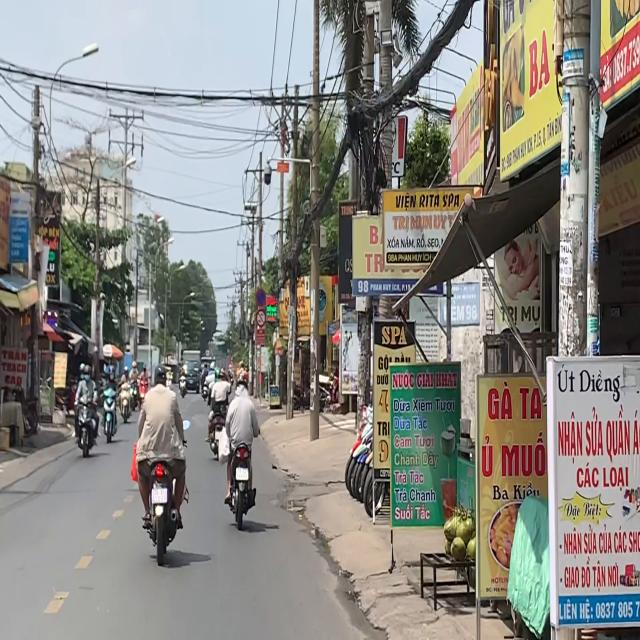Cam con lai: (255, 308, 266, 327)
Cam do: (256, 288, 266, 306)
